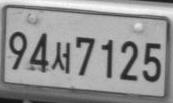1: (98, 38, 117, 78)
2: (118, 39, 139, 81)
4: (28, 31, 49, 72)
5: (141, 41, 162, 82)
7: (74, 35, 95, 76)
9: (7, 30, 27, 70)
서: (50, 41, 71, 74)
